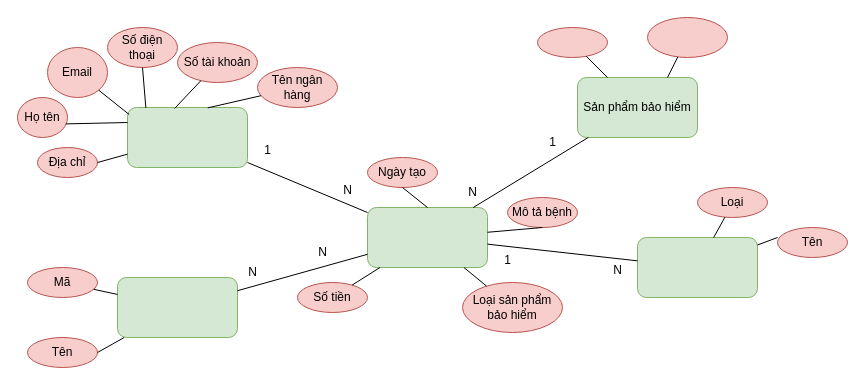
The diagram is 865 pixels wide and 385 high, and some of its shapes have lost their labels. Each missing label, with the box of its shape:
Các giấy tờ liên quan: (636, 236, 758, 298)
Khách hàng(Customer)): (126, 106, 248, 168)
Mổ tả điều khoản: (646, 16, 728, 58)
Trạng thái bồi thường bảo hiểm: (116, 276, 238, 338)
Tên bảo hiểm: (536, 26, 608, 58)
Yêu cầu bồi thường: (366, 206, 488, 268)
